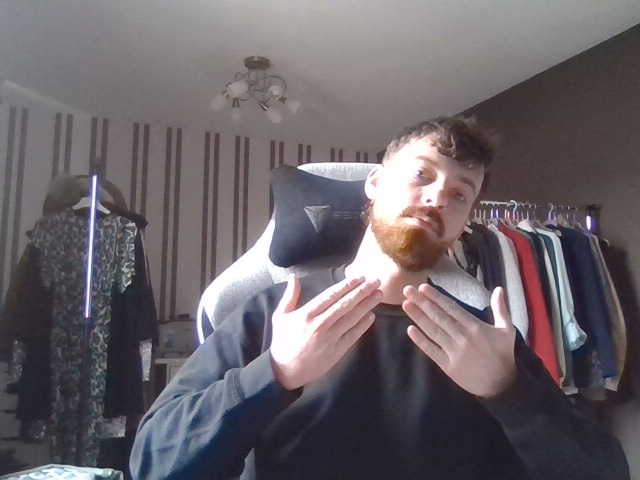Thanks: (269, 258, 519, 401)
